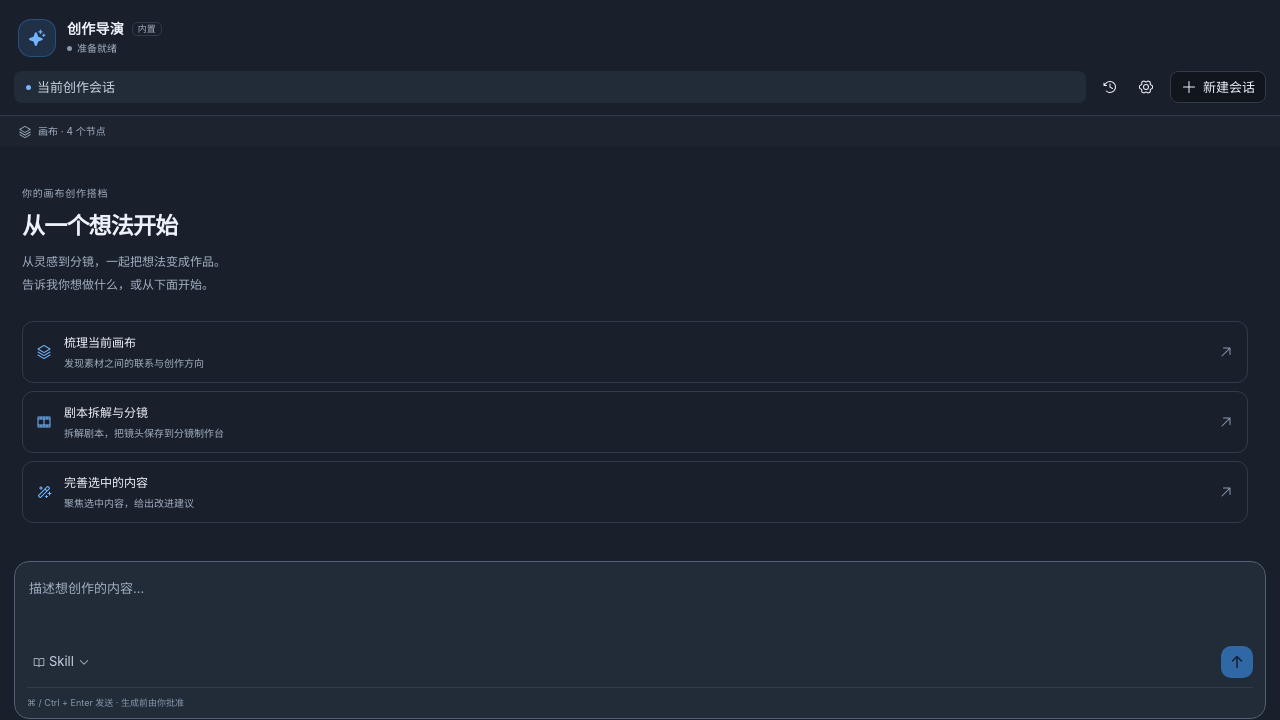
Test: shows the fixed director identity and preserves the draft when returning from history or settings
The width and height of the screenshot is (1280, 720).
Type "还没有发送的导演想法" into the text box named "本次任务" at point(640, 606), box [27,573,1253,639]
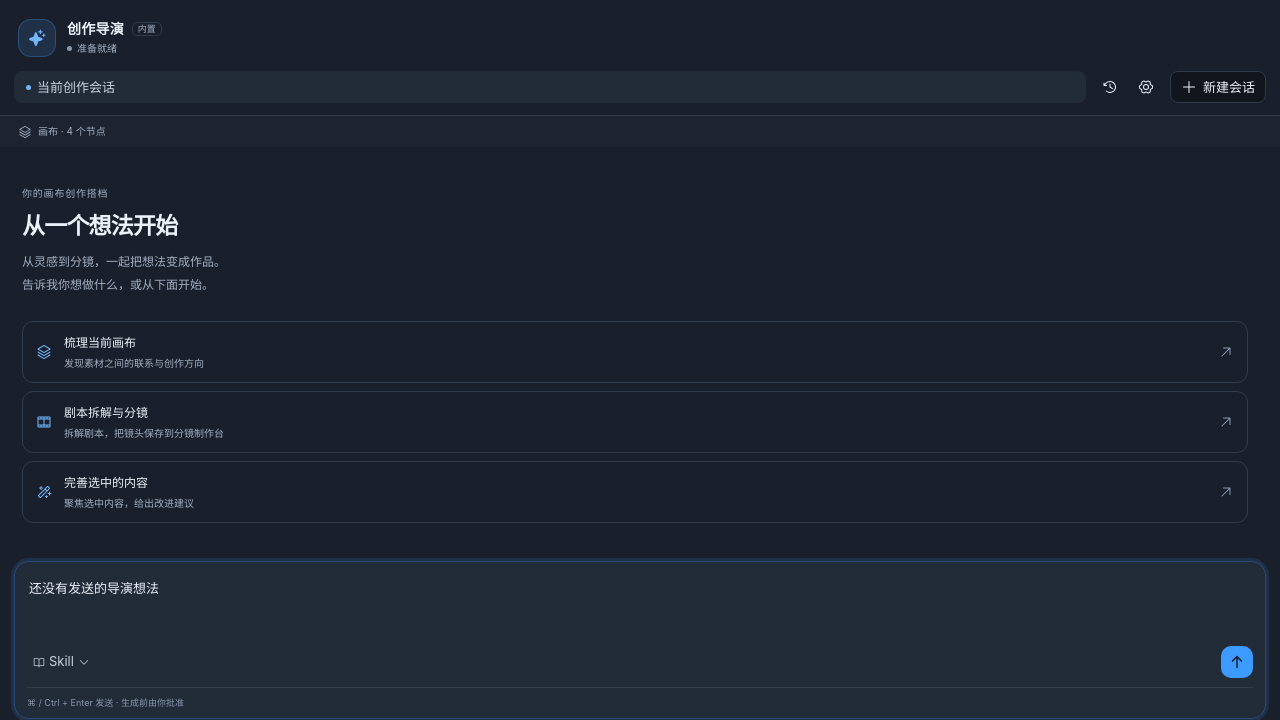
Expected: the heading "创作导演" is shown, [67,18,124,40]
Click the button named "会话列表" at point(1110, 87), box [1094,71,1126,103]
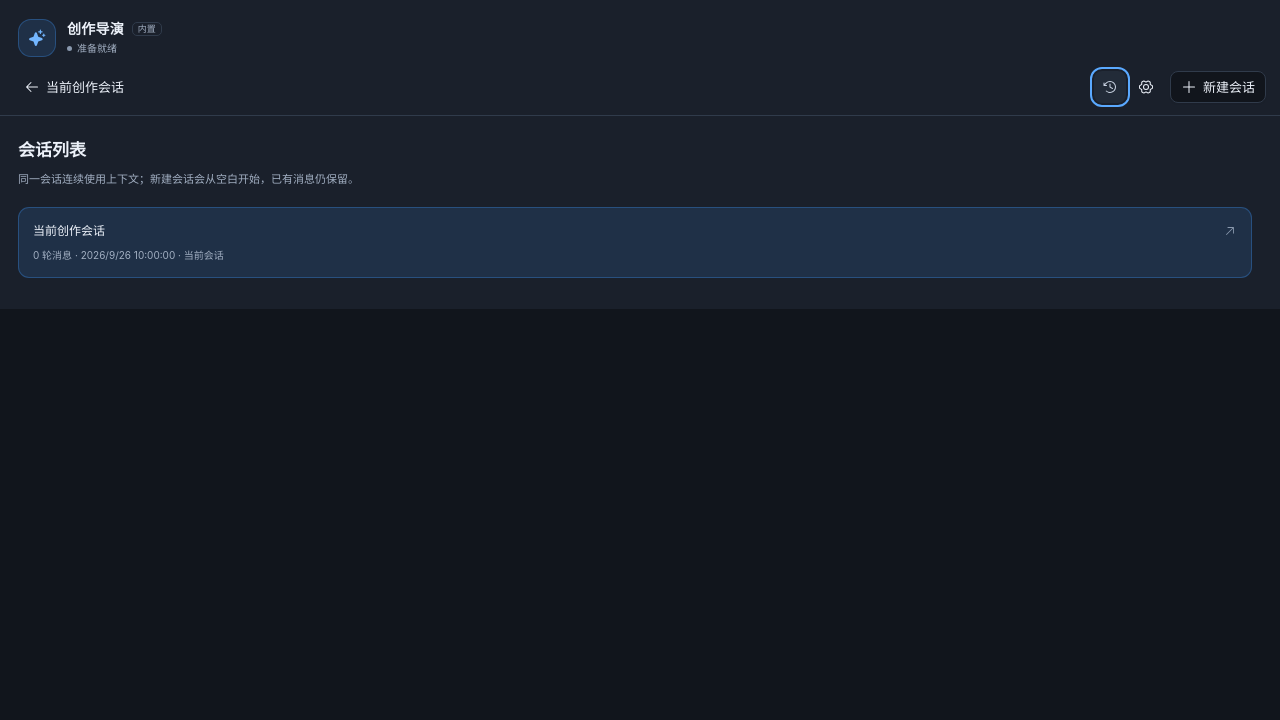
Expected: the form "发送新任务" is gone
Click the button with aria-label "聊天" at point(85, 87), box [14,71,1086,103]
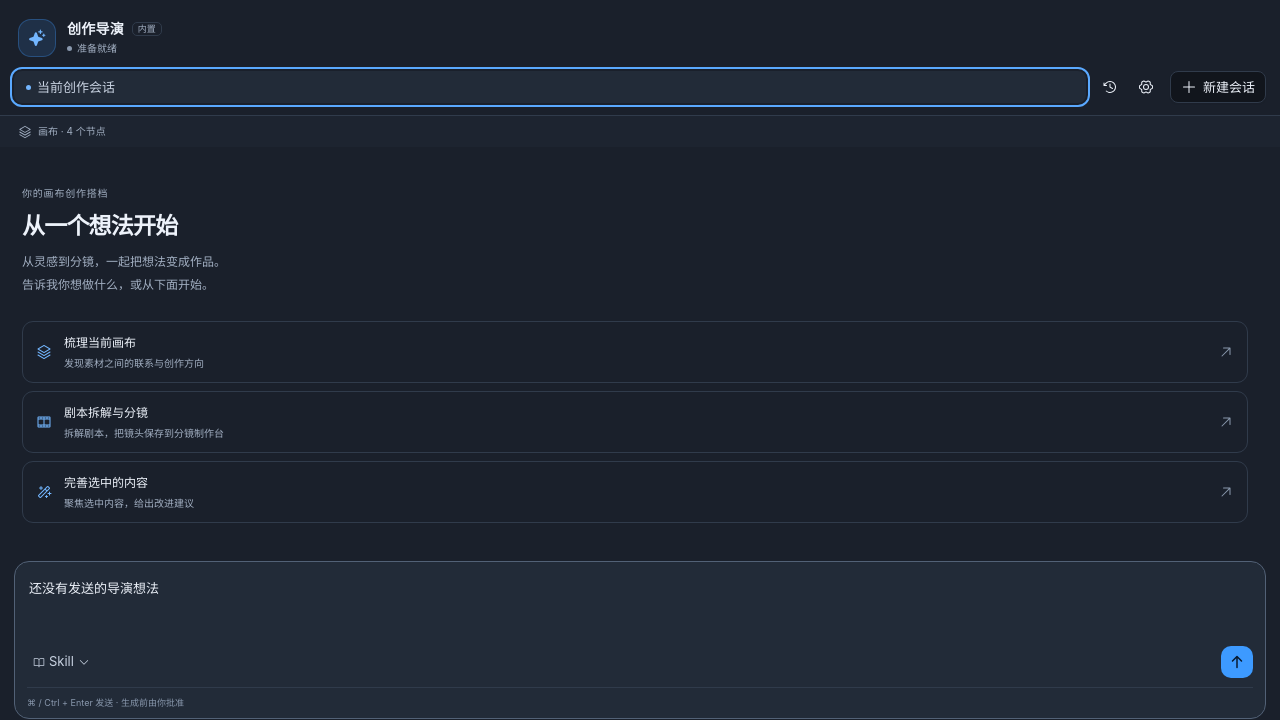
Expected: the text box named "本次任务" holds "还没有发送的导演想法", [27,573,1253,639]
Click the button named "Agent 设置" at point(1146, 87), box [1130,71,1162,103]
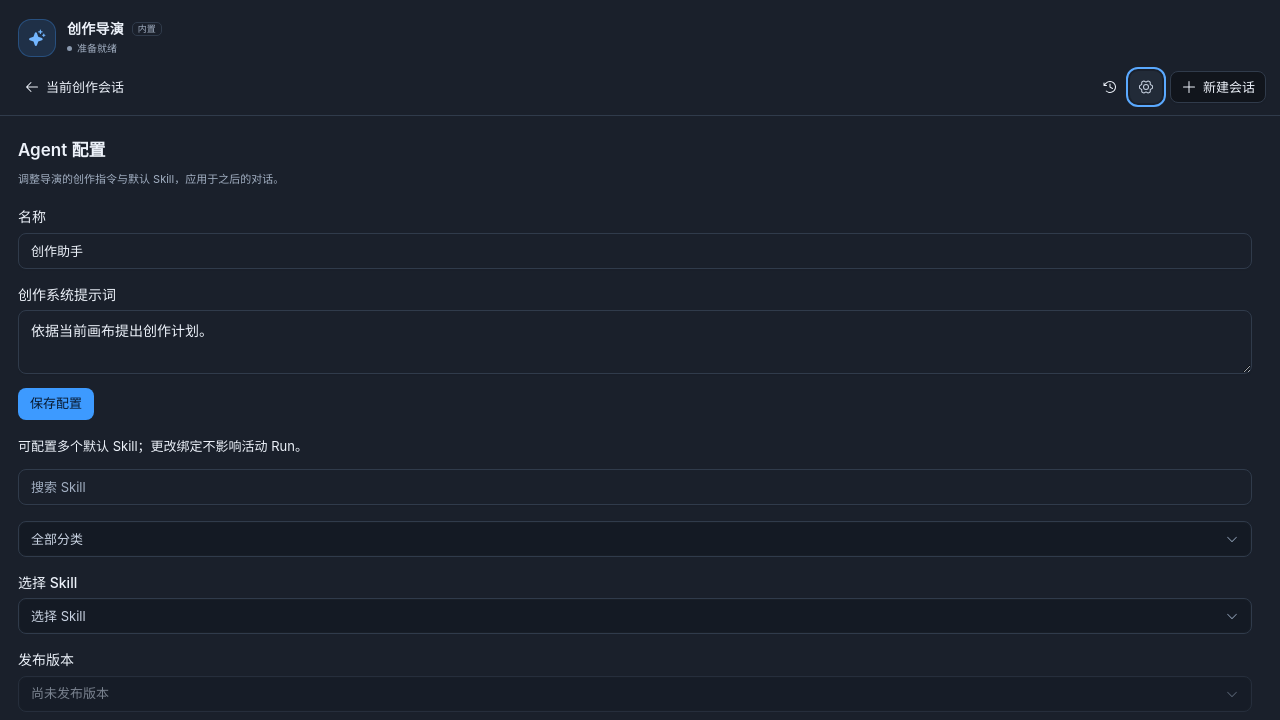
Expected: the form "发送新任务" is gone
Click the button with aria-label "聊天" at point(85, 87), box [14,71,1086,103]
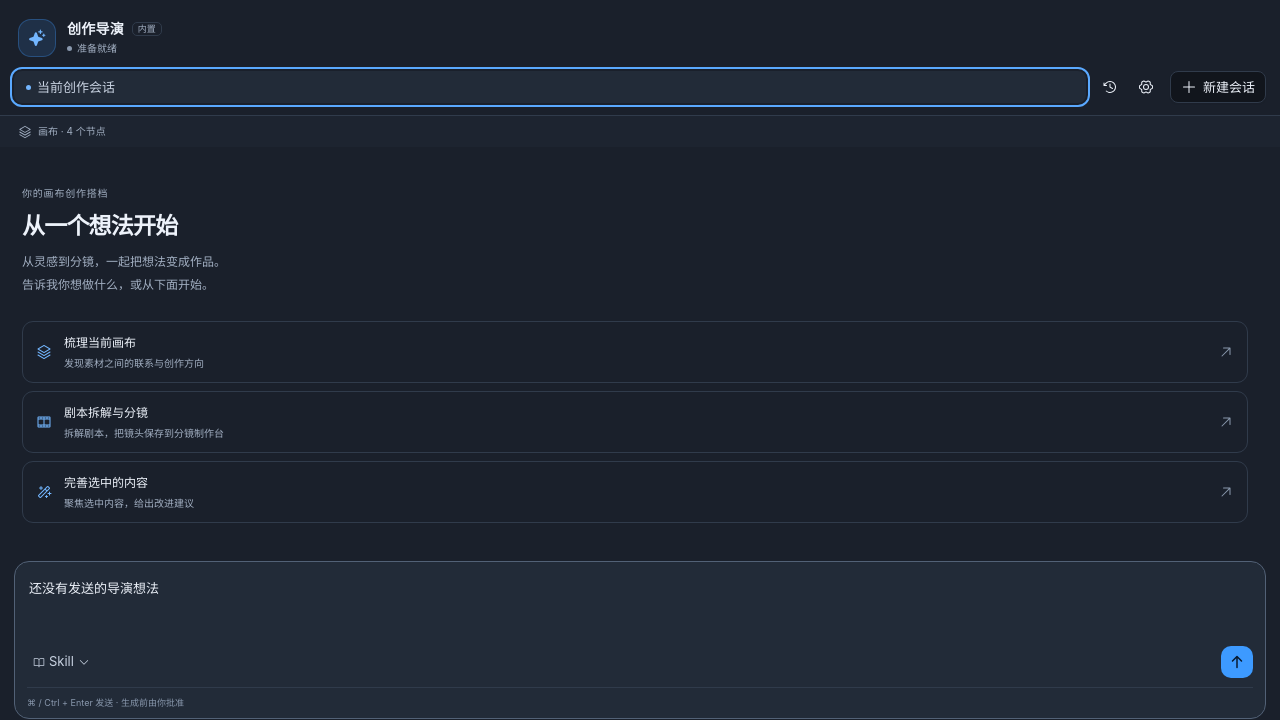
Expected: the text box named "本次任务" holds "还没有发送的导演想法", [27,573,1253,639]
